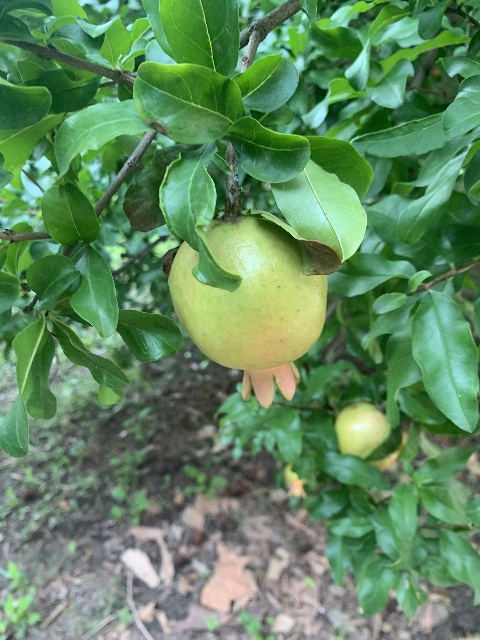mid-growth: (167, 214, 327, 410), (334, 402, 403, 468)
